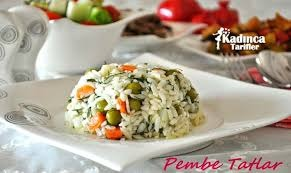pirinc_pilavi: (65, 63, 204, 140)
